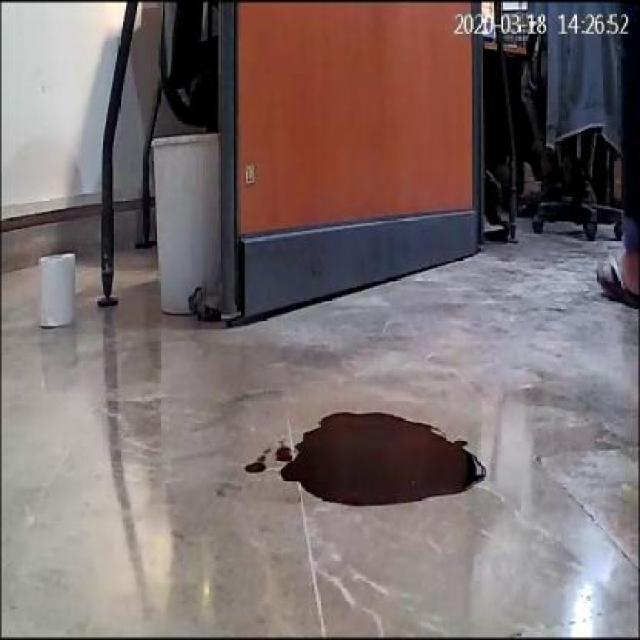spill: (274, 406, 482, 508)
